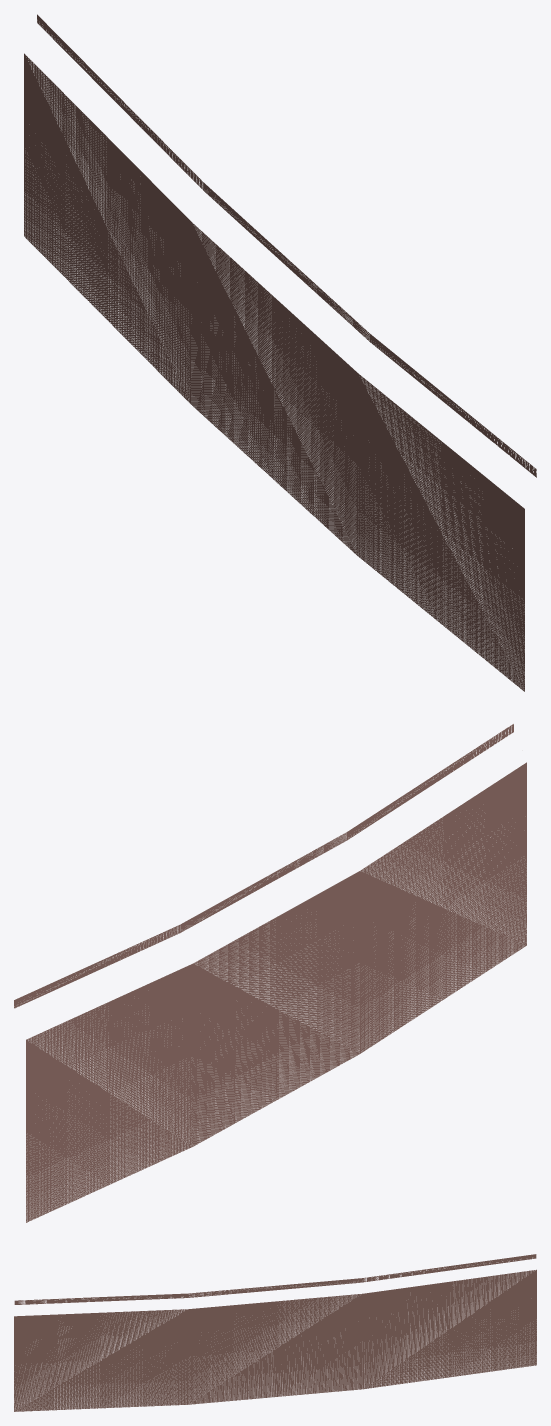
File: SW_ENV_WalledRiserStart_WireFence_Collsion.fbx
3 views of the same model, one above another, from view 1: azimuth 30°, elevation 25°; view 2: azimuth 150°, elevation 25°; view 3: azimuth 270°, elevation 25° (orthographic). The views are drawn at different scales.
Parts seen in each view (by area): view 1: SW_ENV_WalledRiserStart_WireFence_Collsion; view 2: SW_ENV_WalledRiserStart_WireFence_Collsion; view 3: SW_ENV_WalledRiserStart_WireFence_Collsion.
Part boxes in pixels (x1,y1,x2,y2): SW_ENV_WalledRiserStart_WireFence_Collsion: (24,14,536,691); SW_ENV_WalledRiserStart_WireFence_Collsion: (14,724,526,1222); SW_ENV_WalledRiserStart_WireFence_Collsion: (14,1254,536,1411).
Bounding box in the file's own units: 25.55 × 337 × 991.
